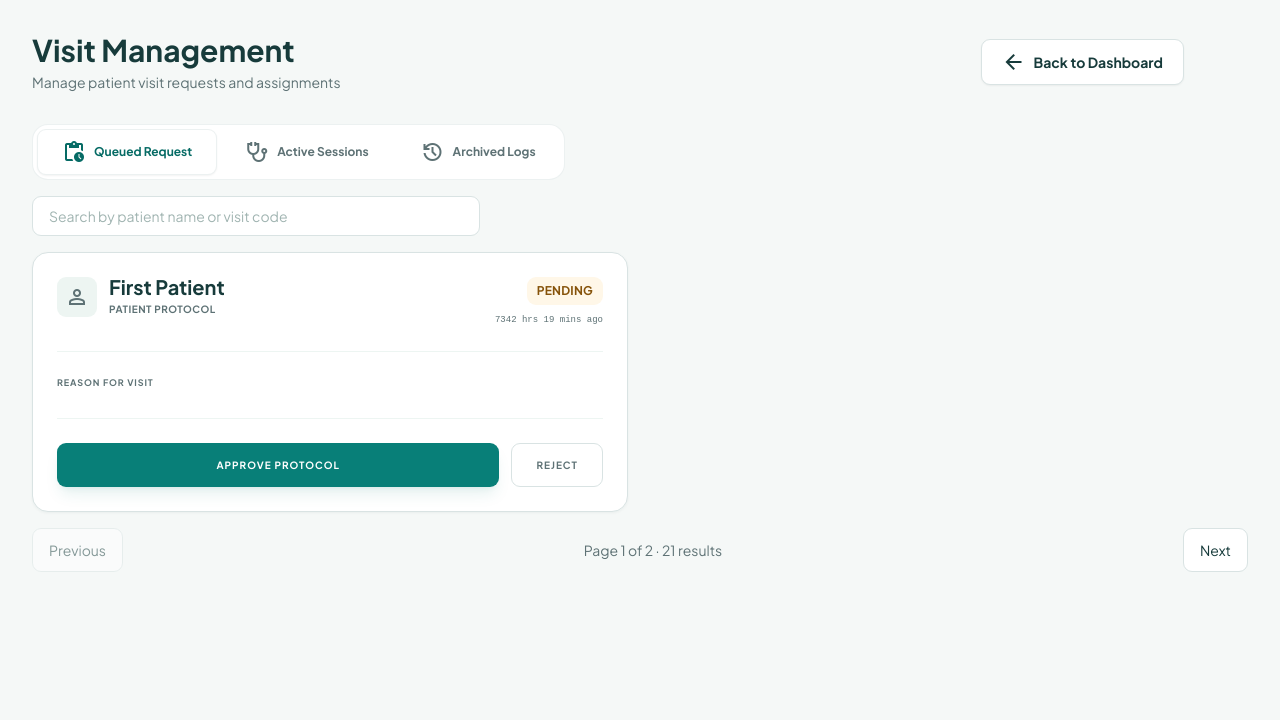
Test case: admin queue searches across pages and resets to the first page
Expected: the heading "First Patient" is shown, [109,277,225,297]
Expected: the text "Older Patient" is not shown
Click the button with aria-label "Next page" at (1216, 550), box [1183,528,1248,572]
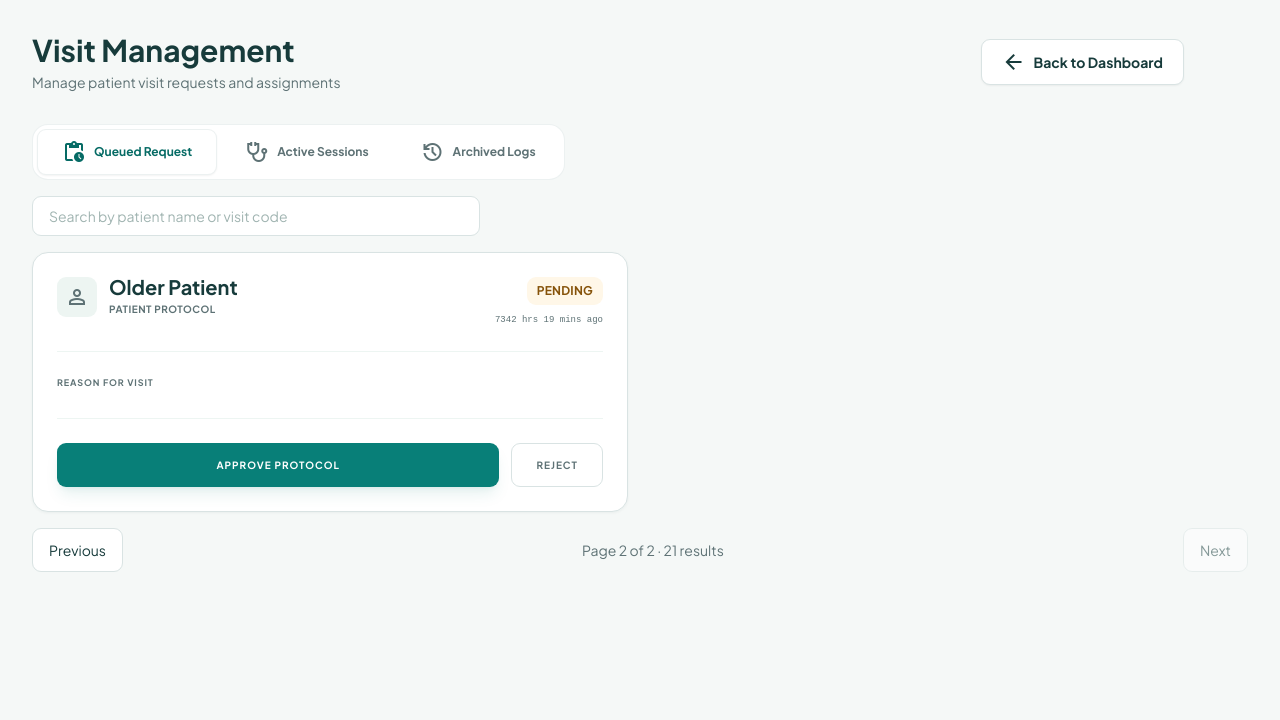
Expected: the heading "Older Patient" is shown, [109,277,238,297]
Type "Old" into the search field named "Search visits" at (256, 216), box [32,196,480,236]
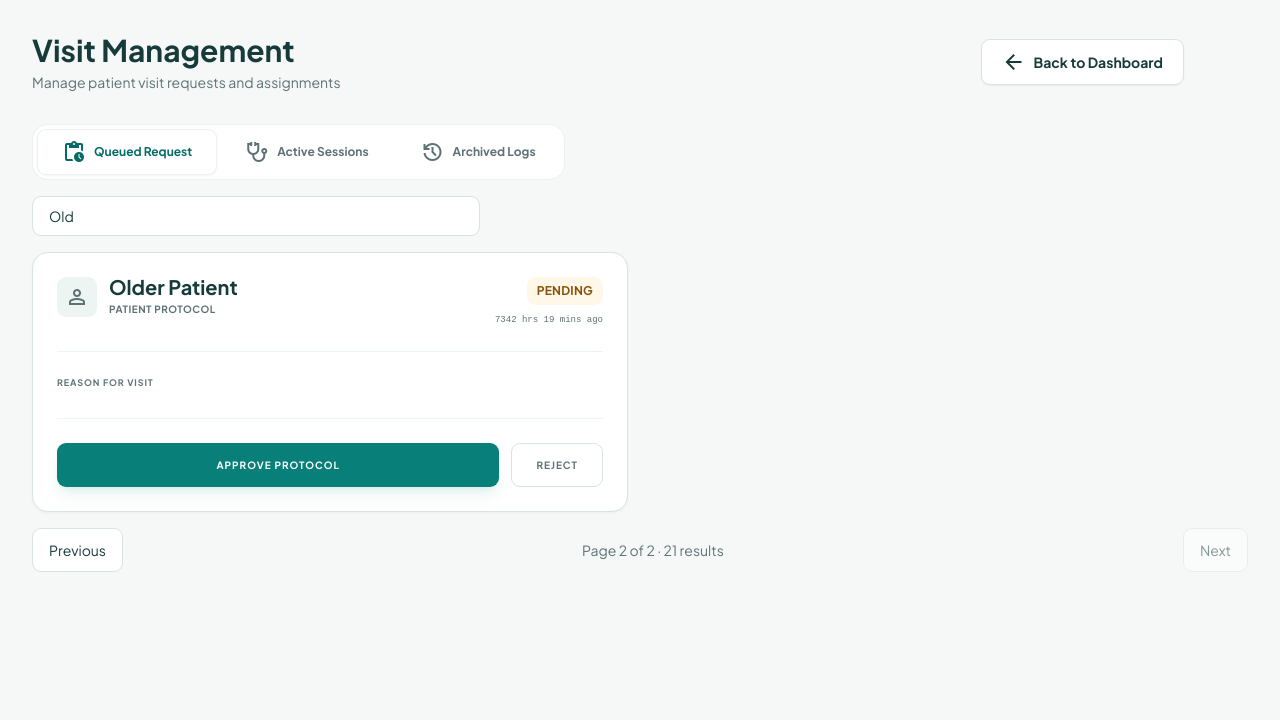
Replace the text in the search field named "Search visits" with "Older" at (256, 216), box [32,196,480,236]
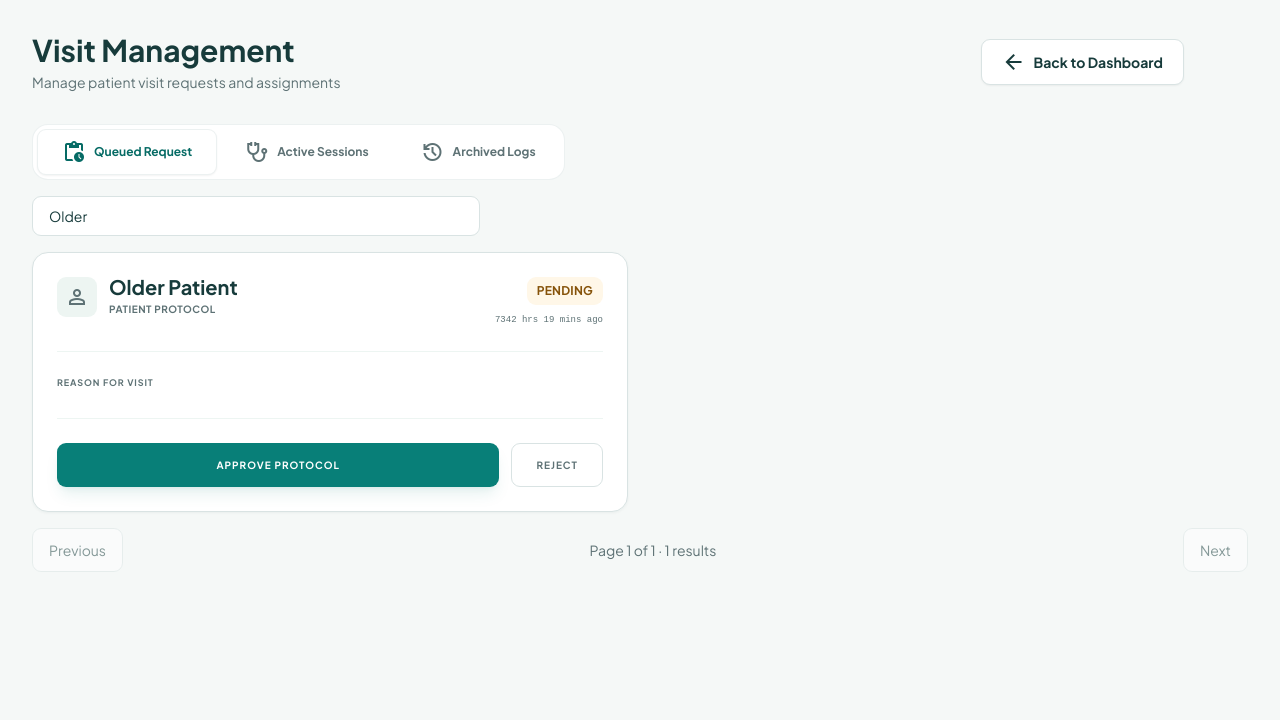
Expected: the heading "Older Patient" is shown, [109,277,238,297]
Expected: the text "Page 1 of 1 · 1 results" is shown, [590,539,716,562]
